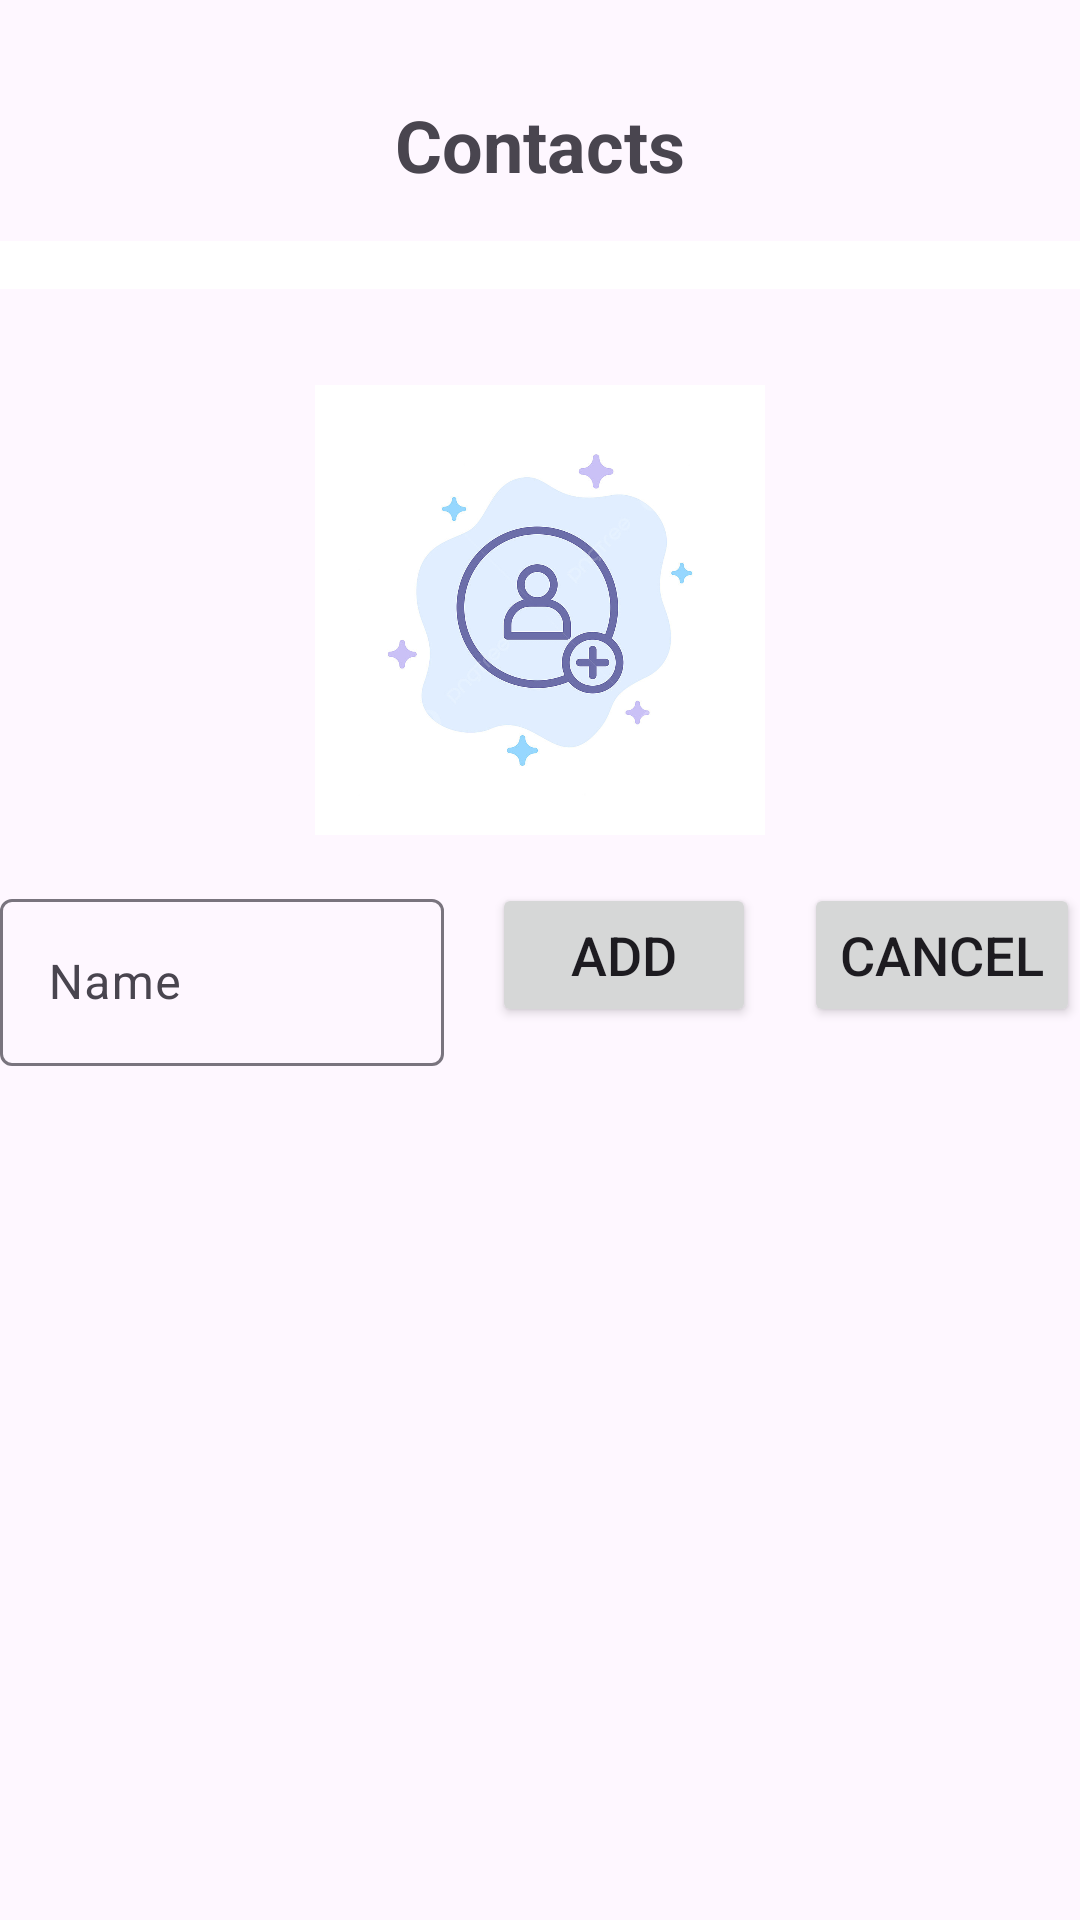

Named icons in this screenshot (1080 × 1920) and their centers, (x,y):
addcimg: (540,610)
